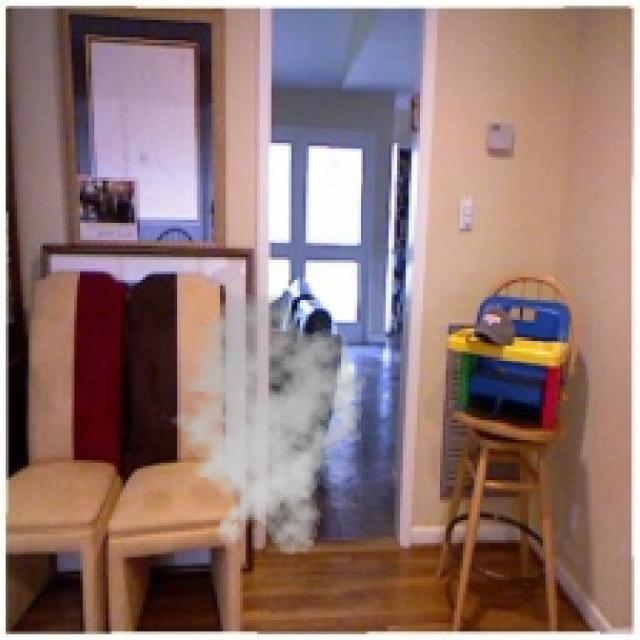Smoke: (160, 292, 374, 557)
